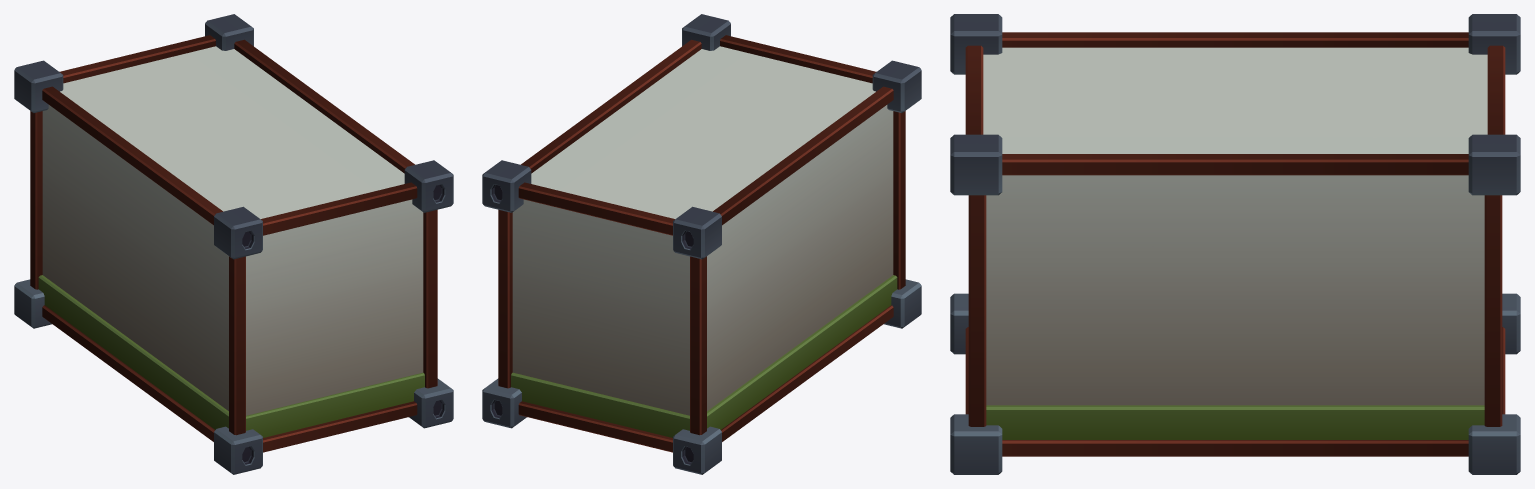
Rendered from sp_build_wall_part2c.fbx.
The picture shows the model from 3 angles, left to right: view 1: azimuth 30°, elevation 25°; view 2: azimuth 150°, elevation 25°; view 3: azimuth 270°, elevation 25°; orthographic projection. The views are drawn at different scales.
Parts seen in each view (by area): view 1: wall_part2c; view 2: wall_part2c; view 3: wall_part2c.
Boxes of the visible parts, x1,y1,x2,y2 form: wall_part2c: (14,14,453,474); wall_part2c: (482,14,921,474); wall_part2c: (950,14,1520,474).
Bounding box in the file's own units: 292 × 312 × 499.
